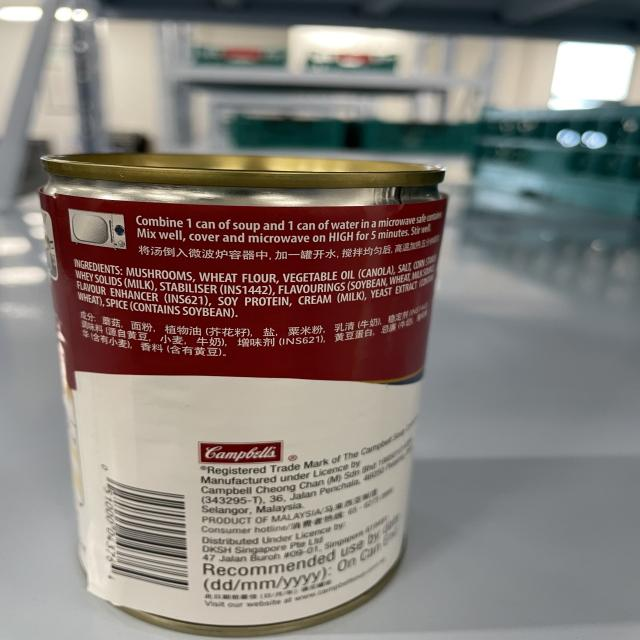object_name: (53, 154, 415, 611)
